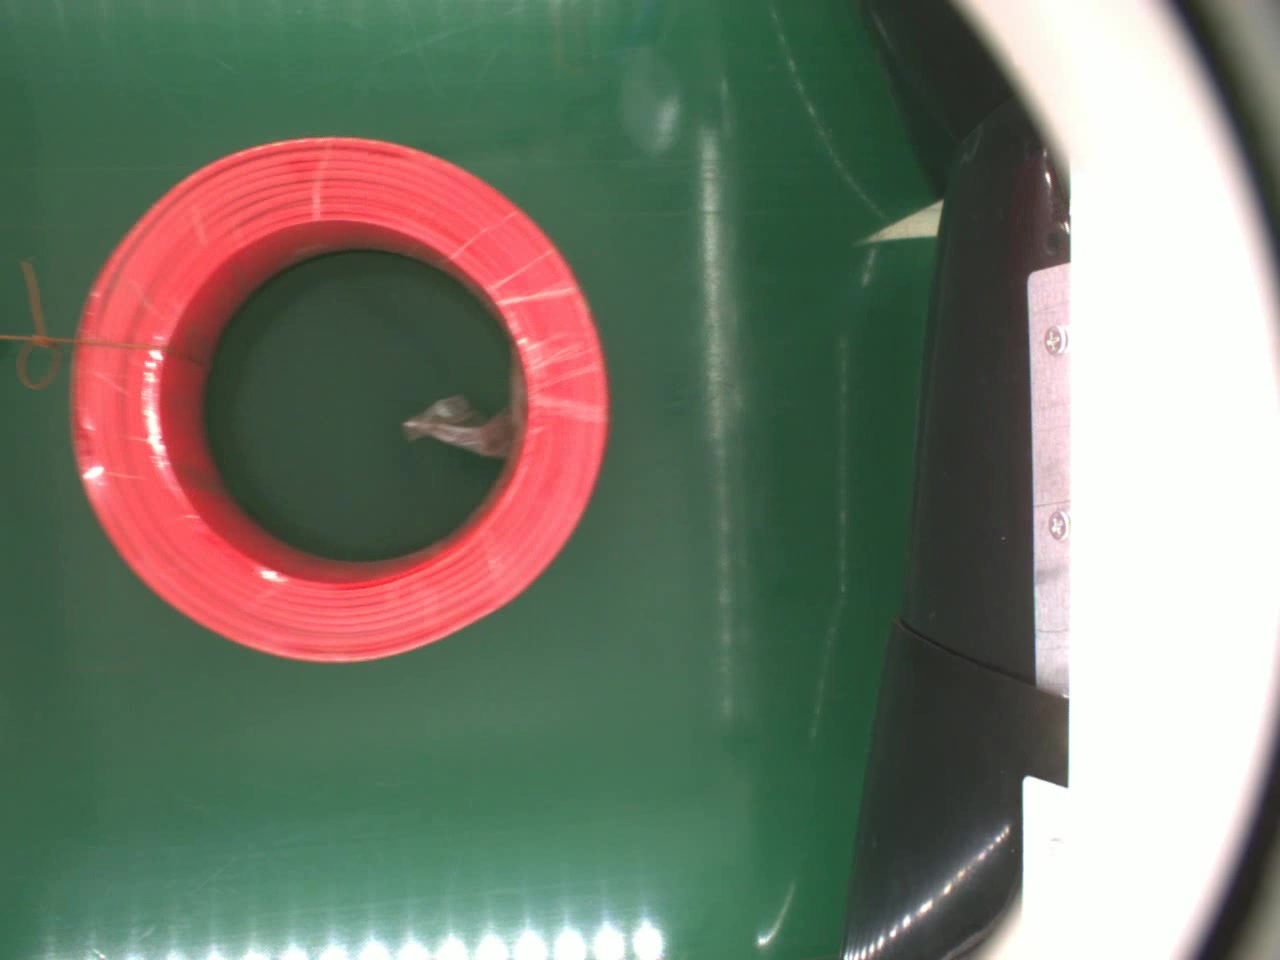red: (66, 128, 611, 665)
